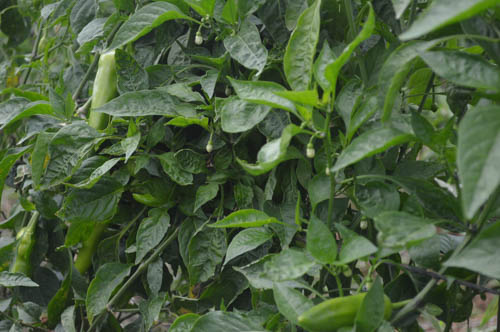ChiliPepper: (294, 292, 389, 332), (87, 51, 116, 139)
